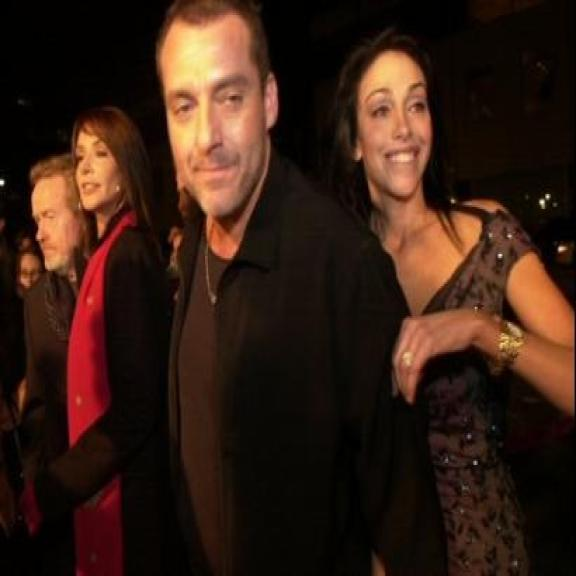face: (165, 21, 282, 220), (349, 53, 438, 208), (33, 172, 85, 275), (78, 132, 126, 213), (20, 248, 41, 290)
